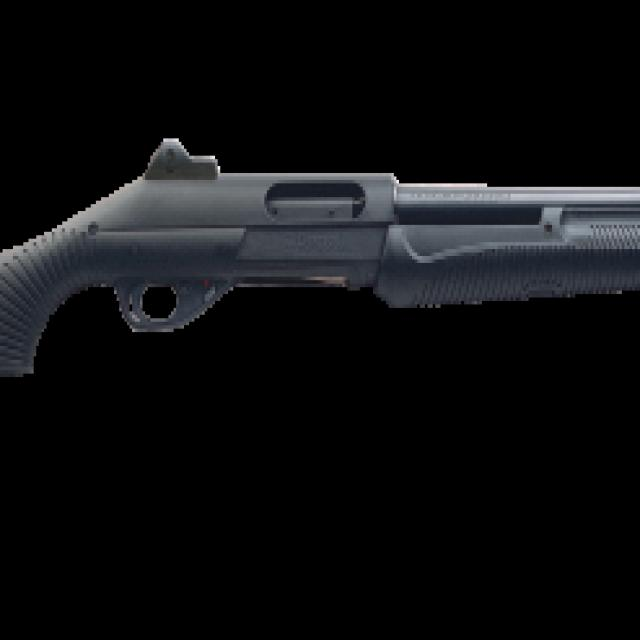ShotGun: (0, 138, 640, 381)
